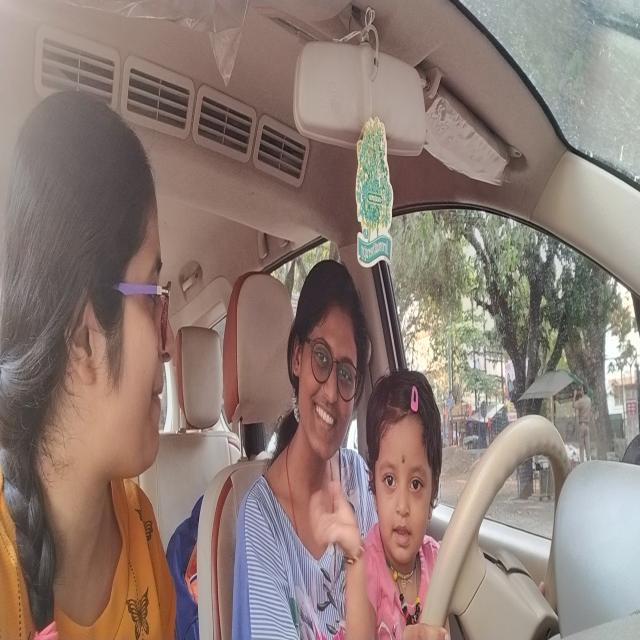child: (362, 362, 444, 562)
person: (3, 80, 174, 500), (287, 243, 366, 467)
